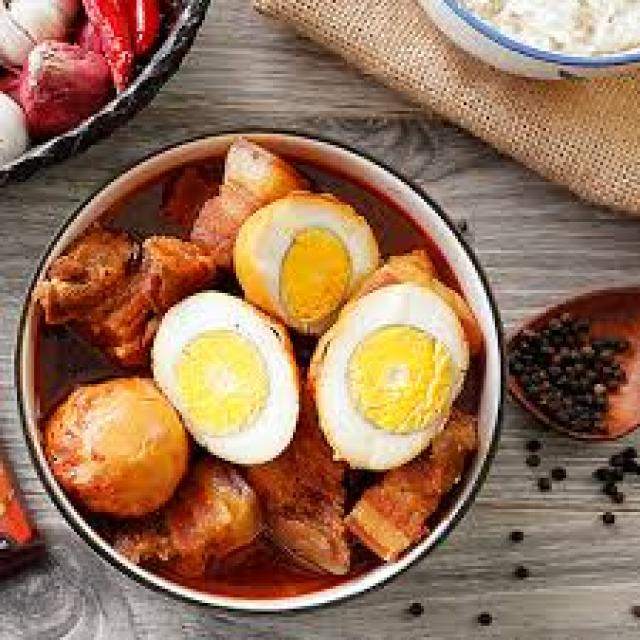thit_kho_trung: (66, 171, 440, 553)
